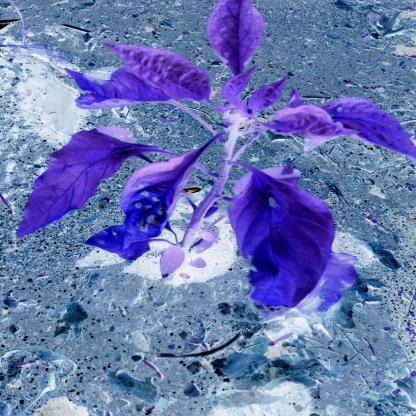Bell_pepper leaf spot: (220, 160, 336, 310), (16, 127, 159, 238), (102, 40, 218, 104), (310, 96, 414, 161), (206, 1, 274, 74)
